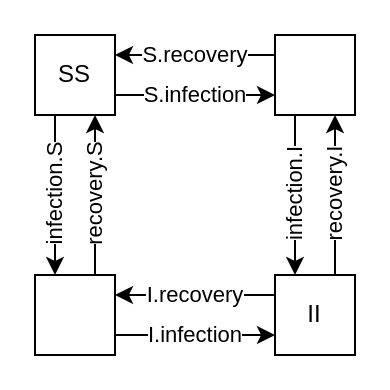
Some shapes in this 390 by 390 pixel diagram are drawn without their labels. The centre of each missing label's shape, as x and y in pixels:
"IS" goes at point (74, 314).
"SI" goes at point (314, 74).
